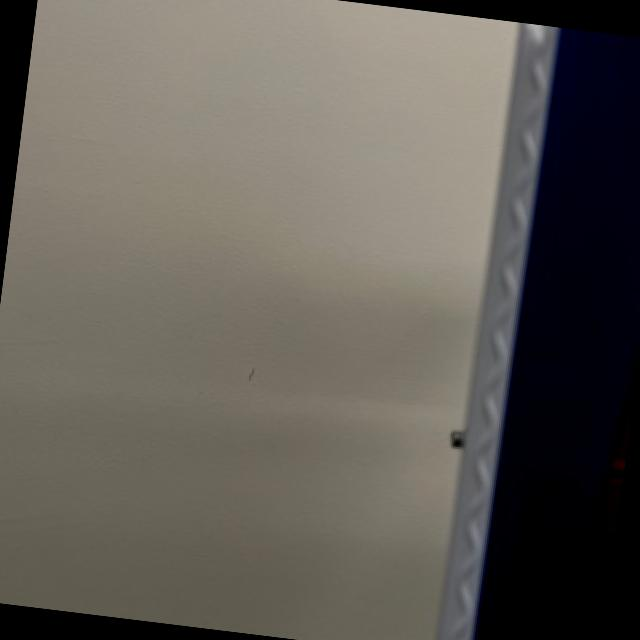healthy: (0, 0, 511, 640), (436, 22, 640, 640)
